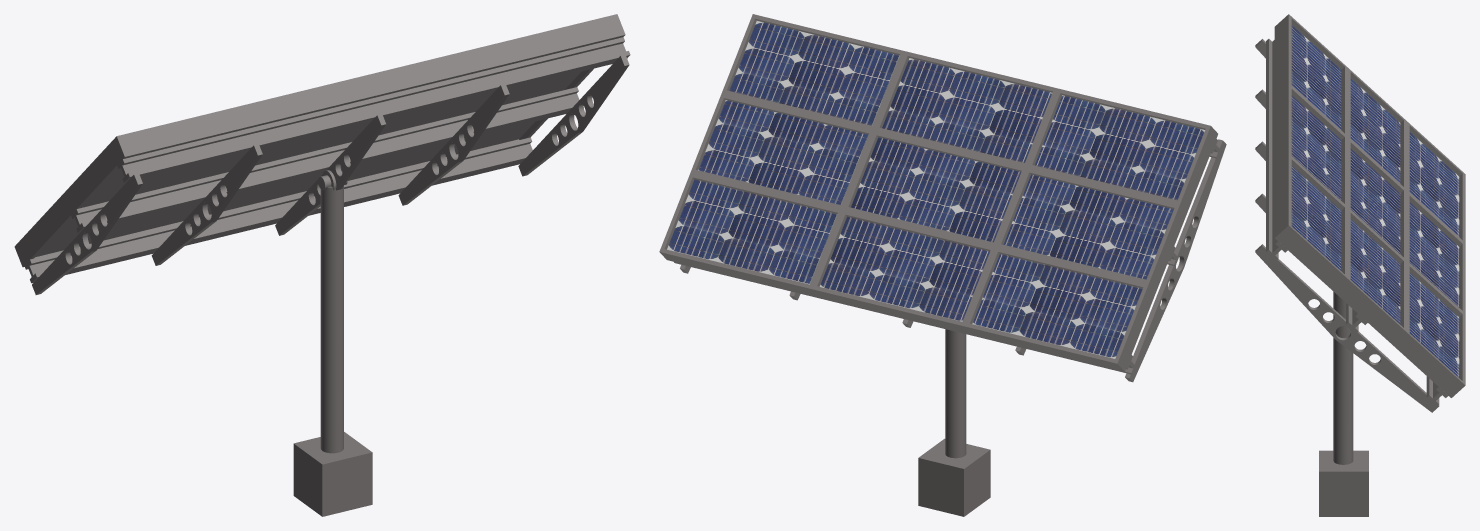
File: solarpanel.glb
3 views of the same model, side by side, from view 1: azimuth 30°, elevation 25°; view 2: azimuth 150°, elevation 25°; view 3: azimuth 270°, elevation 25° (orthographic). The views are drawn at different scales.
Parts seen in each view (by area): view 1: solpanel_metal_0, pelare, betong; view 2: solpanel_Material #3_0, solpanel_metal_0, betong, pelare; view 3: solpanel_Material #3_0, solpanel_metal_0, betong, pelare.
Part boxes in pixels (<box>): solpanel_metal_0: <box>14,14,630,294</box>; pelare: <box>320,186,343,453</box>; betong: <box>293,432,372,516</box>; solpanel_Material #3_0: <box>667,21,1204,358</box>; solpanel_metal_0: <box>659,14,1226,382</box>; betong: <box>918,438,990,516</box>; pelare: <box>945,329,966,458</box>; solpanel_Material #3_0: <box>1291,25,1459,377</box>; solpanel_metal_0: <box>1255,14,1465,412</box>; betong: <box>1319,450,1368,516</box>; pelare: <box>1333,291,1353,464</box>.
Bounding box in the file's own units: 2.34 × 2 × 0.9855.
3 materials, 1 textured.
